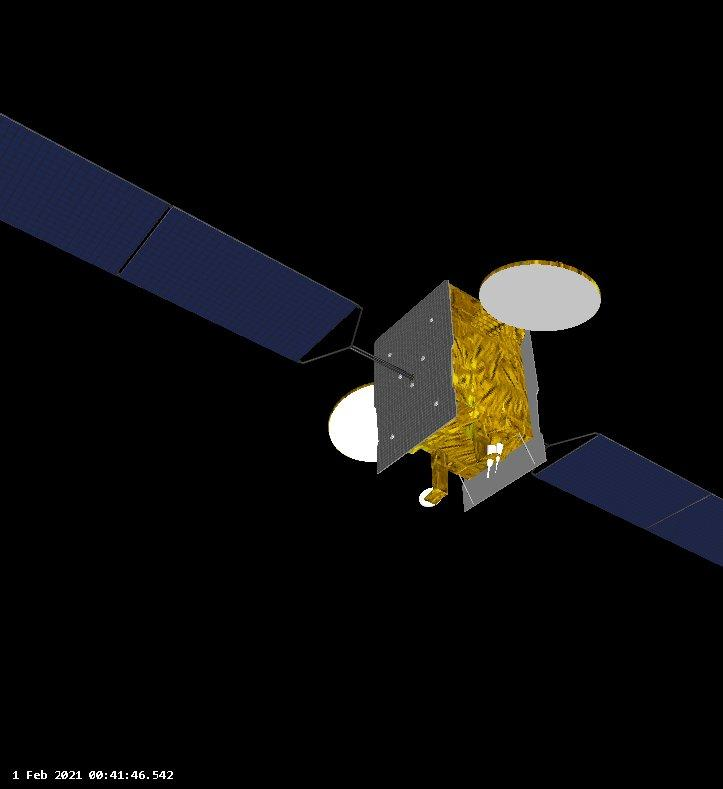antenna: (477, 257, 604, 334), (327, 381, 380, 465), (416, 485, 446, 507)
body: (371, 277, 549, 515)
solar: (0, 109, 361, 364), (532, 432, 723, 568)
